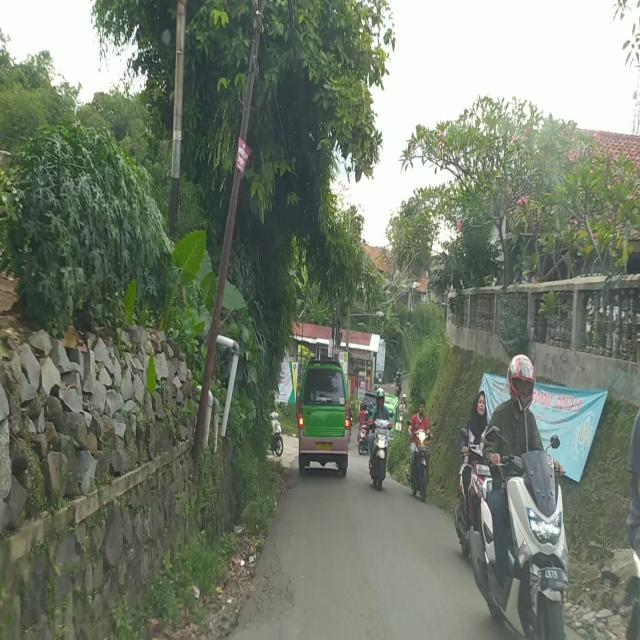Drain Hole: (244, 533, 306, 626)
